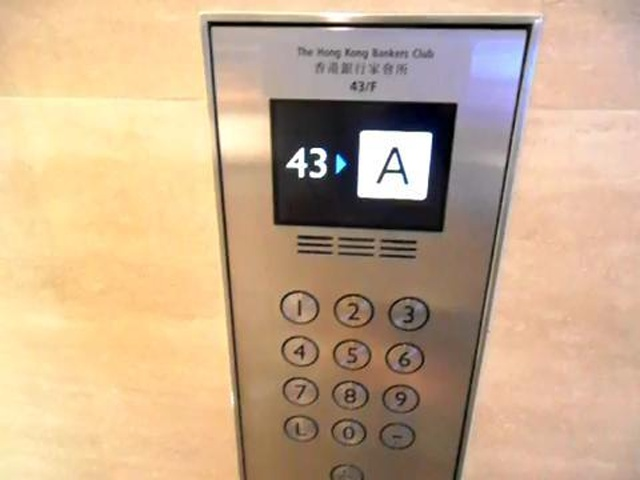-: (378, 420, 417, 452)
0: (330, 416, 369, 448)
1: (279, 287, 321, 326)
2: (331, 290, 376, 330)
3: (387, 295, 430, 333)
4: (280, 333, 321, 369)
5: (331, 337, 374, 372)
6: (383, 340, 426, 376)
7: (280, 373, 321, 408)
8: (330, 378, 371, 412)
9: (381, 380, 422, 416)
L: (281, 413, 321, 444)
led: (266, 94, 460, 236)
